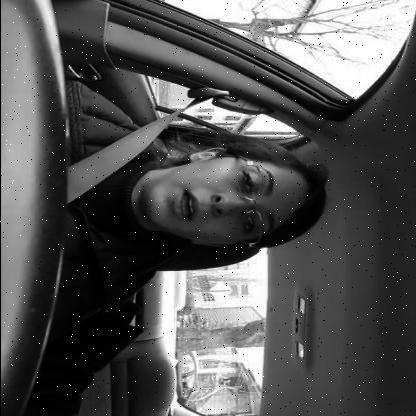seatbelt: (0, 82, 334, 266)
